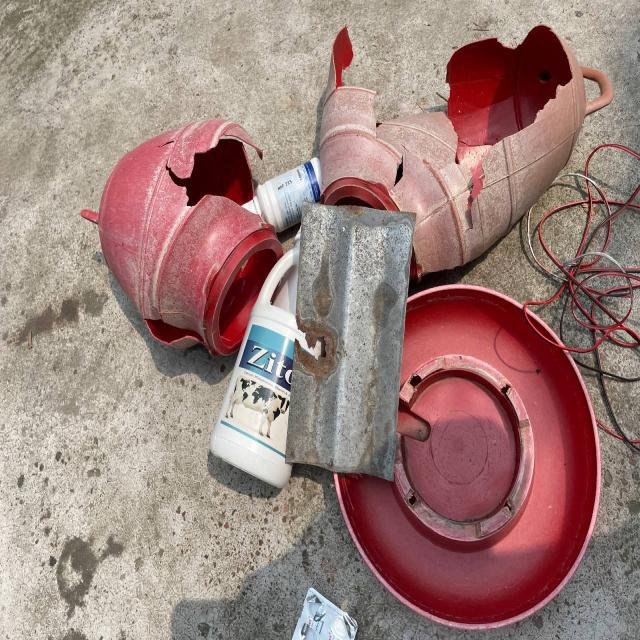Cable: (535, 153, 640, 415)
Medical Waste: (256, 575, 370, 640)
Metal: (294, 198, 414, 494)
Plastics: (77, 117, 296, 513), (317, 6, 596, 210)
